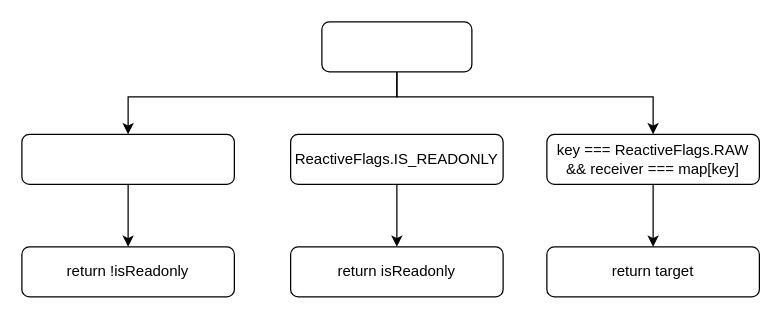
Image size: 781x319. Some labels were removed from this diagram. Each missing label, with the centre of its shape:
key: the point at 396,46
ReactiveFlags.IS_REACTIVE: the point at 127,158
